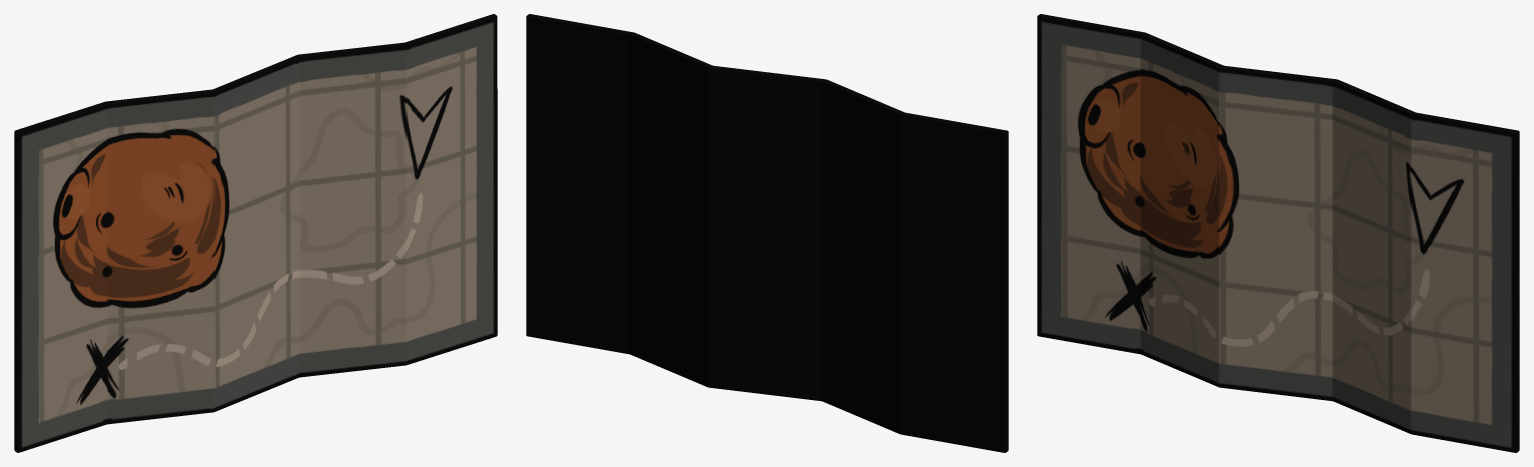
The model's file is map.fbx.
The picture shows the model from 3 angles, left to right: view 1: azimuth 30°, elevation 25°; view 2: azimuth 150°, elevation 25°; view 3: azimuth 330°, elevation 25°; orthographic projection.
Visible parts, largest first — view 1: map; view 2: map; view 3: map.
Part boxes in pixels (left/top/right/bottom): map: left=14, top=14, right=497, bottom=452; map: left=526, top=14, right=1008, bottom=452; map: left=1037, top=14, right=1519, bottom=452.
Bounding box in the file's own units: 1.71 × 1.09 × 0.1093.
Materials: 1 (1 with a texture image).
